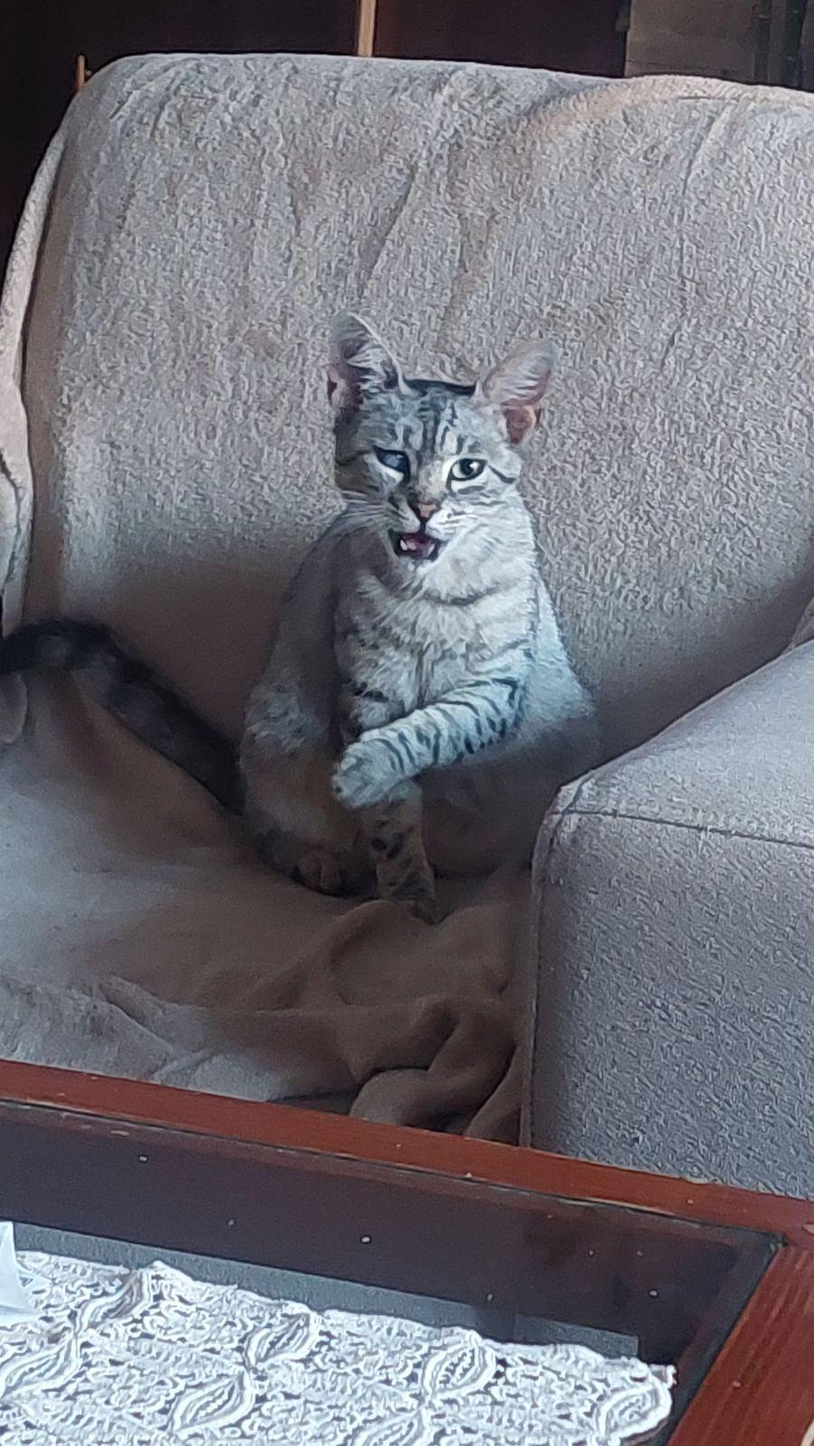macka: (15, 311, 607, 945)
